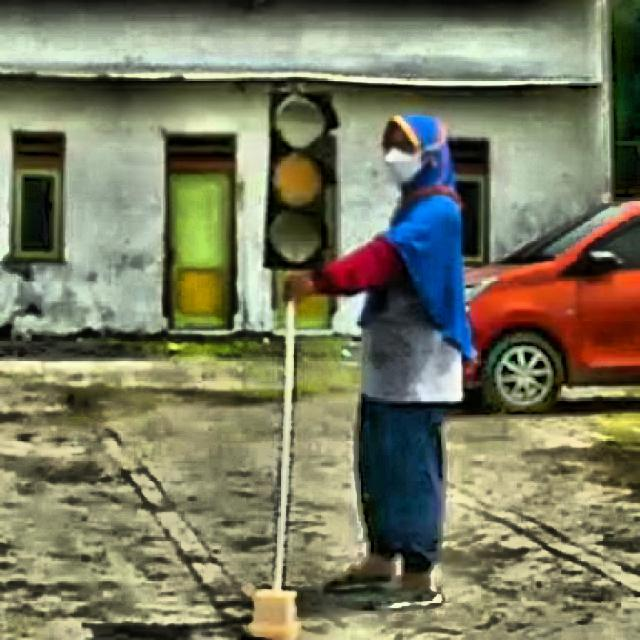yellow: (258, 88, 336, 272)
